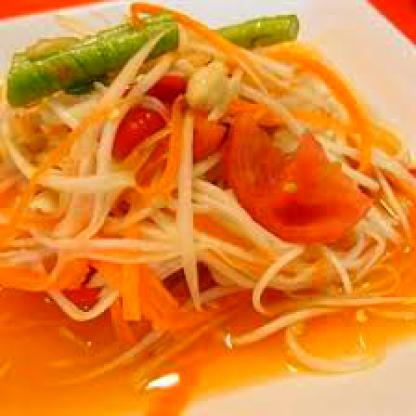Papaya Salad: (0, 7, 405, 410)
